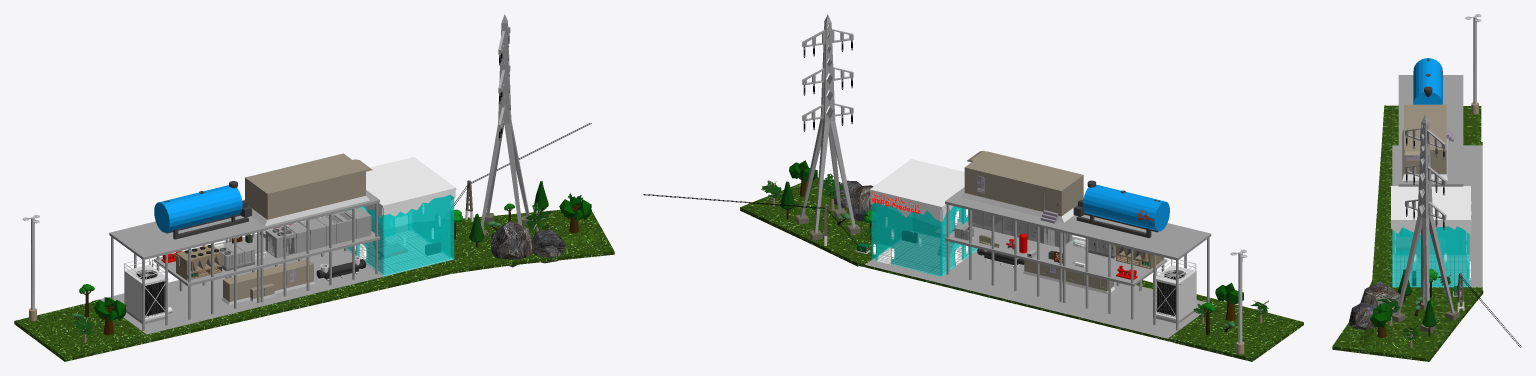
Rendered from AC Store.glb.
The picture shows the model from 3 angles, left to right: view 1: azimuth 30°, elevation 25°; view 2: azimuth 150°, elevation 25°; view 3: azimuth 270°, elevation 25°; orthographic projection. The views are drawn at different scales.
Visible parts, largest first — view 1: Storage, Ground Extension, DOAS, Ext Walls, Cube, Roof, Boiler, RTU, Tower, Leaves.011, RTU.002, Cooling Tower (+6 smaller); view 2: Storage, Ground Extension, Cube, DOAS, Ext Walls, Tower, Roof, Boiler, Leaves.011, Cooling Tower, RTU, RTU.002 (+4 smaller); view 3: Ground Extension, Cube, Tower, Ext Walls, Storage, Roof, DOAS, Leaves.011, Boiler, Rock.001, Post, Trunk (+4 smaller).
Boxes of the visible parts, x1,y1,x2,y2 form: Storage: [109, 190, 379, 331]; Ground Extension: [14, 210, 614, 361]; DOAS: [245, 153, 372, 225]; Ext Walls: [346, 195, 454, 276]; Cube: [92, 224, 464, 338]; Roof: [365, 157, 456, 217]; Boiler: [154, 181, 251, 239]; RTU: [265, 207, 371, 258]; Tower: [481, 14, 529, 229]; Leaves.011: [71, 181, 591, 334]; RTU.002: [222, 259, 314, 304]; Cooling Tower: [124, 258, 172, 323]; Storage: [945, 187, 1211, 331]; Ground Extension: [740, 177, 1303, 361]; Cube: [858, 233, 1225, 342]; DOAS: [960, 150, 1083, 223]; Ext Walls: [871, 202, 977, 276]; Tower: [800, 14, 855, 233]; Roof: [869, 159, 964, 221]; Boiler: [1073, 180, 1169, 238]; Leaves.011: [761, 160, 1268, 326]; Cooling Tower: [1153, 259, 1196, 323]; RTU: [968, 209, 1072, 247]; RTU.002: [1023, 260, 1114, 293]; Ground Extension: [1332, 105, 1483, 361]; Cube: [1384, 142, 1482, 290]; Tower: [1396, 114, 1454, 315]; Ext Walls: [1392, 226, 1469, 287]; Storage: [1398, 75, 1463, 254]; Roof: [1391, 186, 1470, 234]; DOAS: [1402, 104, 1453, 180]; Leaves.011: [1369, 109, 1451, 339]; Boiler: [1413, 58, 1442, 104]; Rock.001: [1348, 281, 1399, 329]; Post: [1465, 14, 1481, 114]; Trunk: [1376, 273, 1450, 347].
Size of the model in its own units: 77.21 by 28.23 by 22.37.
Materials: 109 (3 with a texture image).
